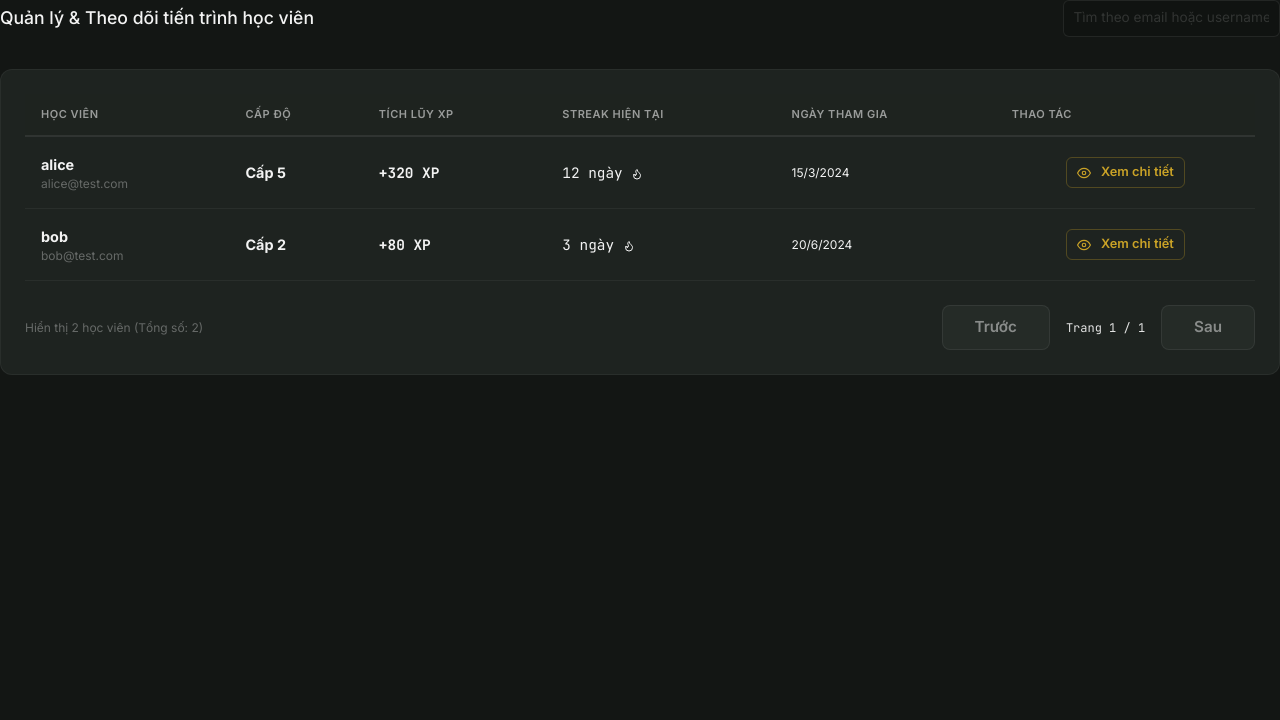
Scenario: Teacher Panel — P2 Tests › US-TEACH-012 (P2): Student management › opens student detail modal with 2 contract fetches and renders attempts (TC-037)
The width and height of the screenshot is (1280, 720).
Click the button "Xem chi tiết" in the row of "alice@test.com": (1125, 173) [1066,157,1185,188]
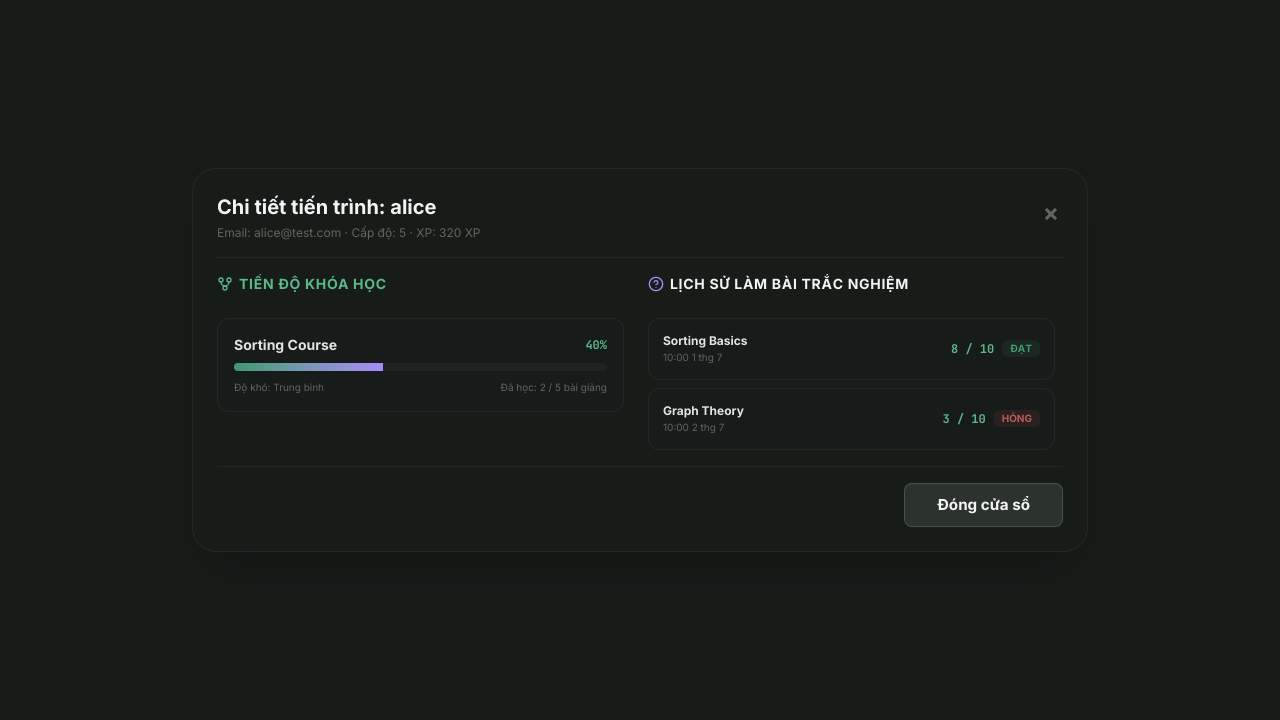
expect the text "Chi tiết tiến trình: alice" is shown: met, box [217,195,436,219]
expect the text "Sorting Course" is shown: met, box [234,335,337,355]
expect the text "Sorting Basics" is shown: met, box [663,333,748,349]
